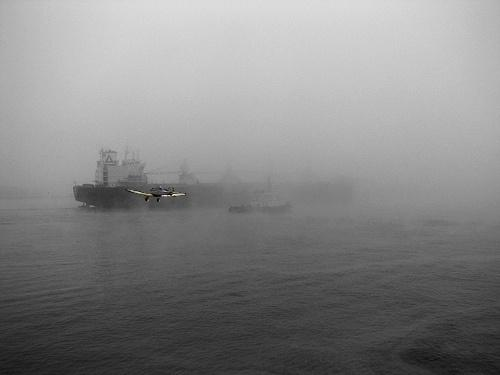tampered: (126, 187, 186, 202)
